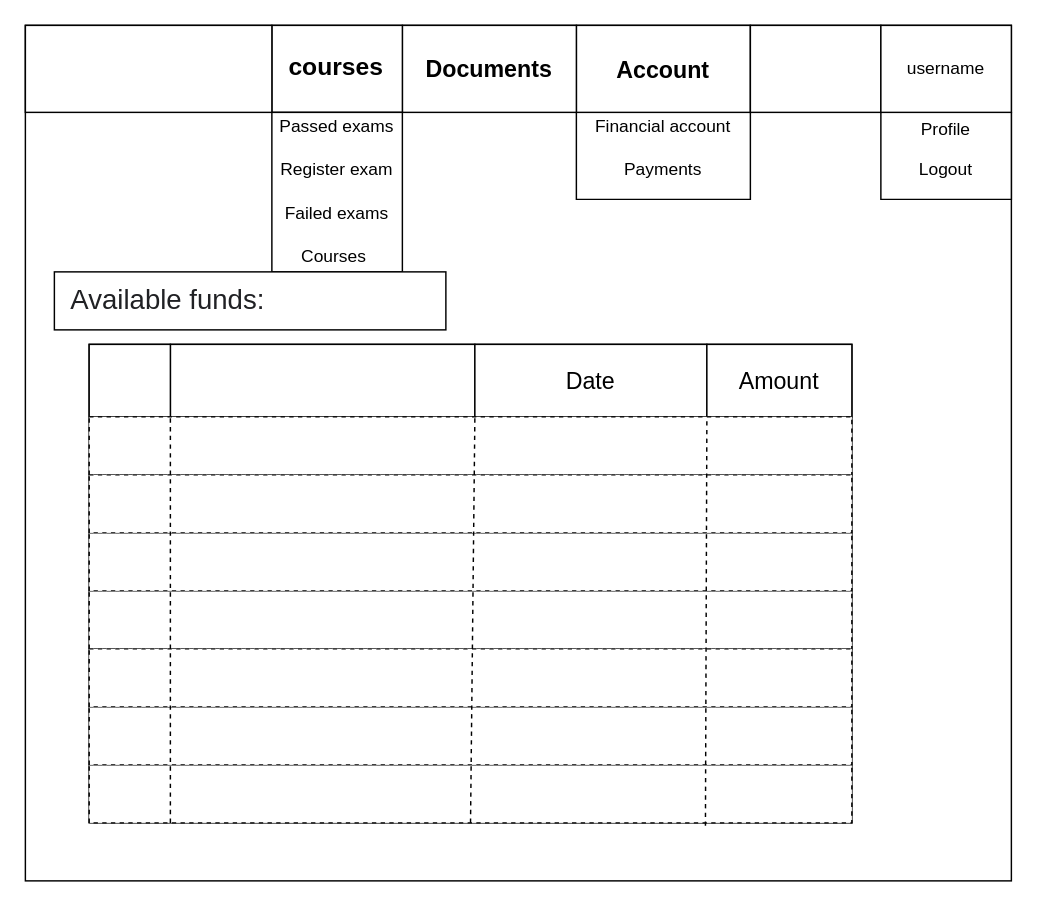
Image size: 1037x906. Some labels were removed from this diagram. The box of each missing label's shape, as (x1, y1, x2, y2) in pixels:
FacultyService: (24, 24, 272, 112)
Name: (169, 343, 475, 417)
SR.: (88, 343, 170, 417)
